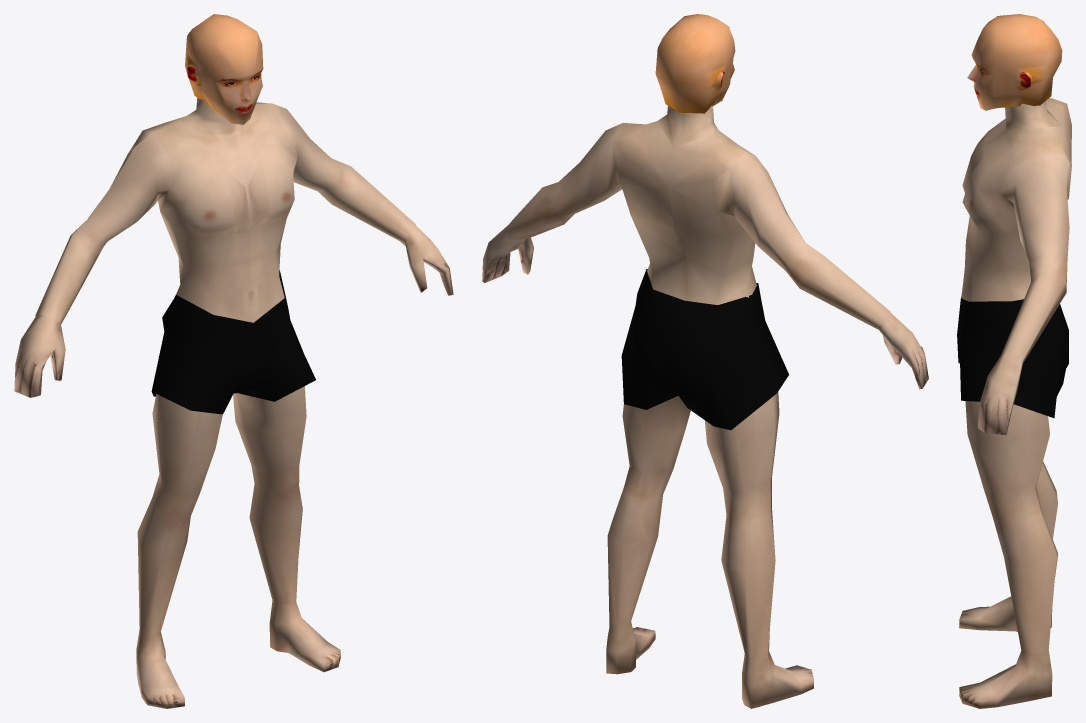
Rendered from MaleCitizenBase.fbx.
The picture shows the model from 3 angles, left to right: view 1: azimuth 30°, elevation 25°; view 2: azimuth 150°, elevation 25°; view 3: azimuth 270°, elevation 25°; orthographic projection. The views are drawn at different scales.
Parts seen in each view (by area): view 1: Aura, MaleBody, Pants, Head, BodyHair; view 2: Aura, Pants, MaleBody, Head, BodyHair; view 3: Aura, MaleBody, Pants, Head.
Boxes of the visible parts, x1,y1,x2,y2 form: Aura: (35, 102, 415, 638); MaleBody: (14, 98, 453, 708); Pants: (151, 270, 315, 414); Head: (185, 14, 263, 124); BodyHair: (39, 125, 409, 523); Aura: (503, 115, 890, 660); Pants: (621, 269, 788, 430); MaleBody: (482, 105, 928, 708); Head: (655, 14, 735, 113); BodyHair: (508, 142, 878, 569); Aura: (961, 97, 1071, 654); MaleBody: (959, 101, 1057, 708); Pants: (957, 297, 1068, 418); Head: (967, 14, 1062, 110).
Size of the model in its own units: 127 by 182 by 29.38.
